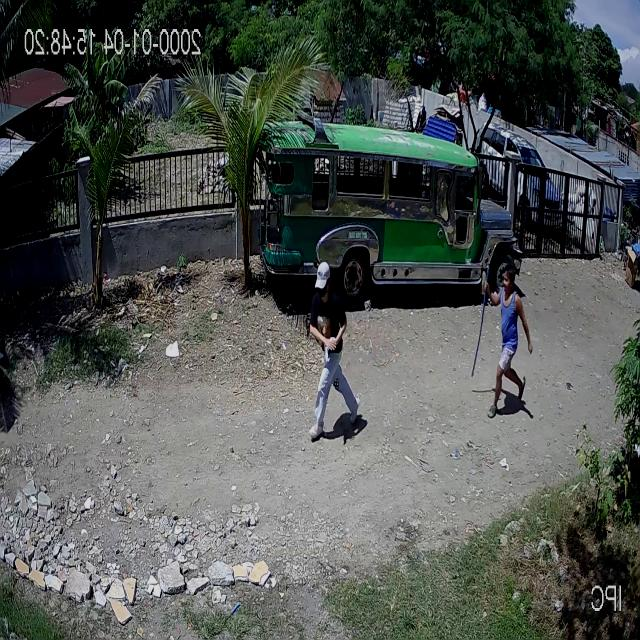running: (471, 265, 534, 413), (310, 261, 359, 440)
